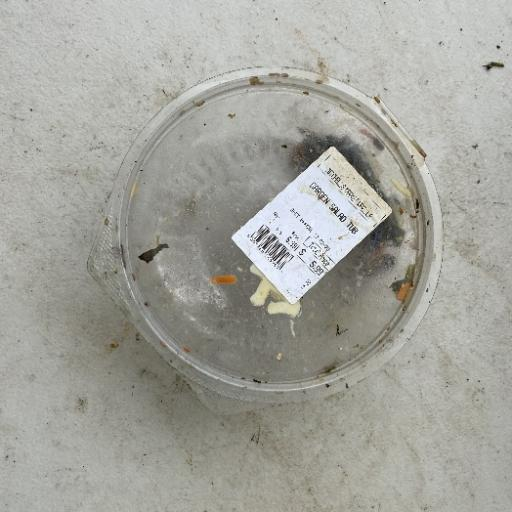Plastic: (86, 66, 446, 416), (228, 144, 392, 310)
